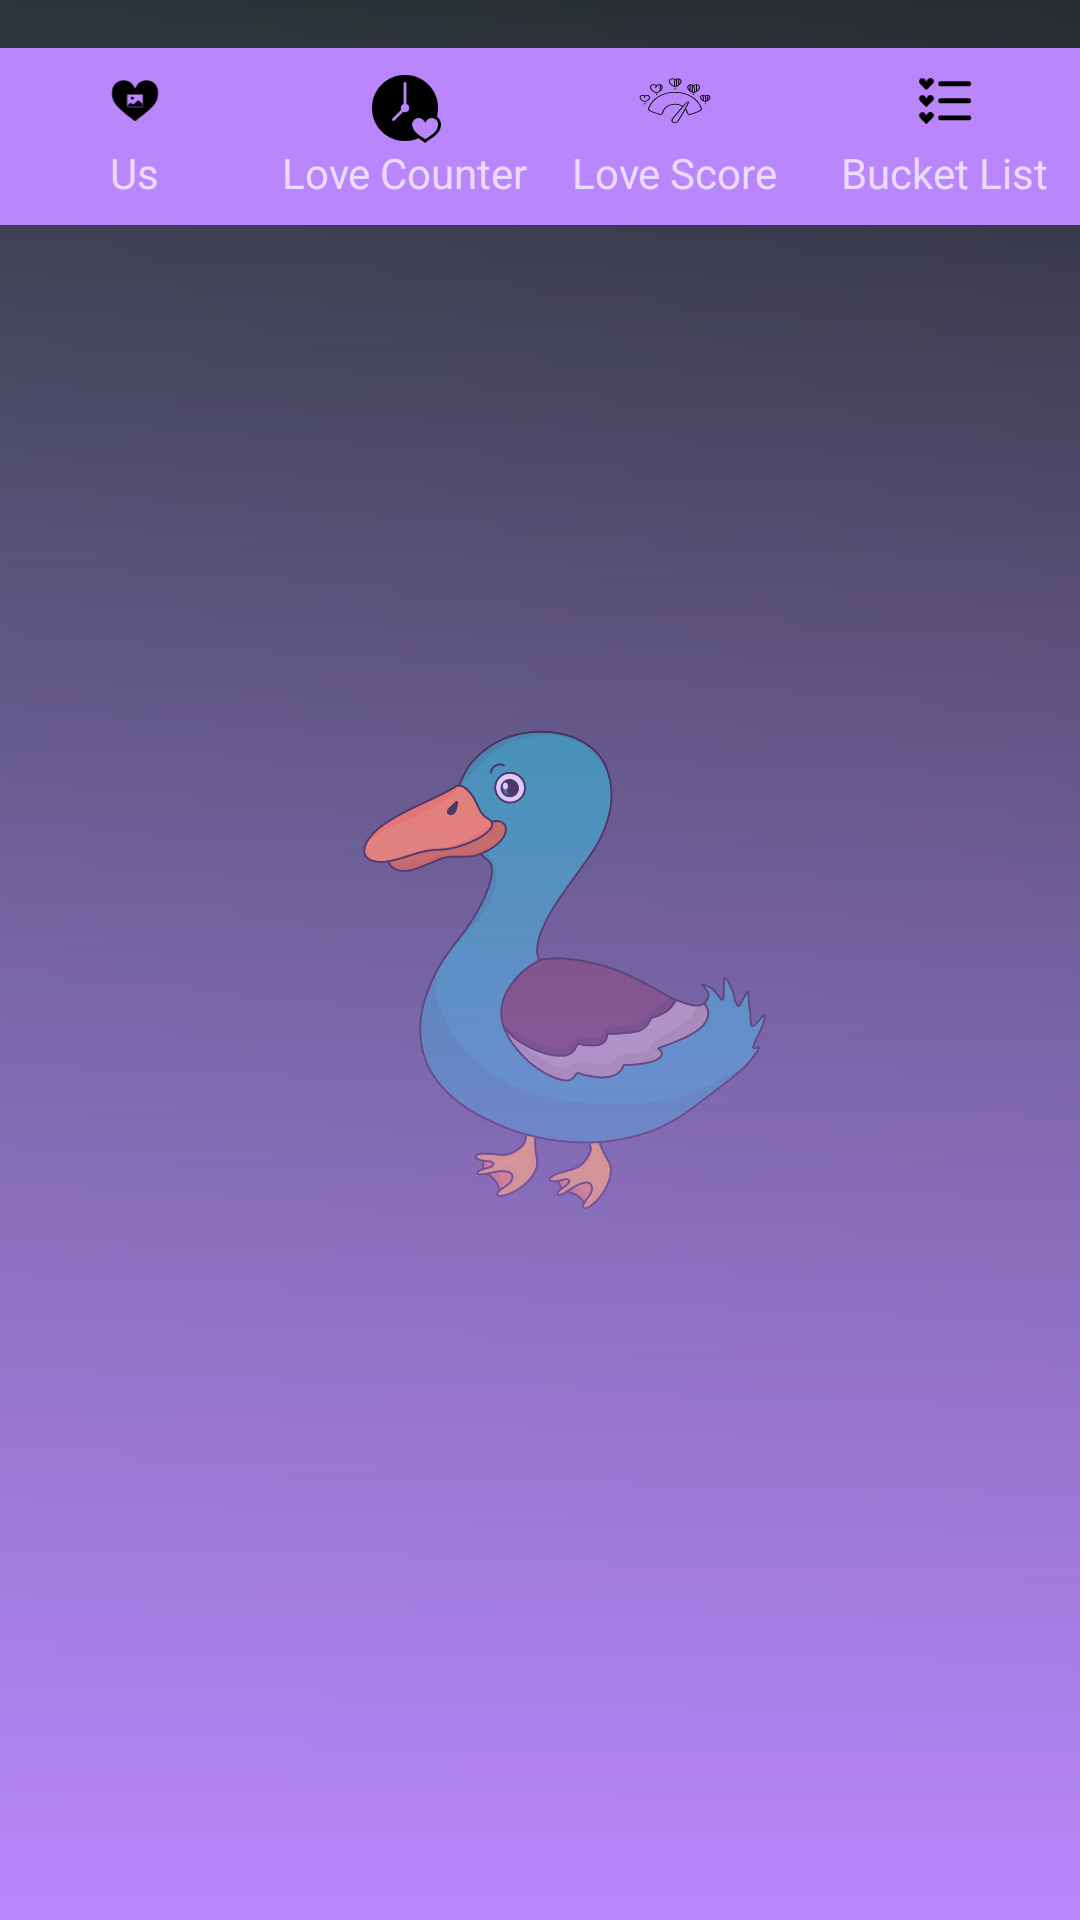

Named icons in this screenshot (1080×1920) and their centers, point (x, y):
love images: point (135, 100)
love meter: point (675, 101)
timer: point (406, 109)
